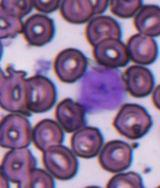L: (76, 67, 126, 112)
